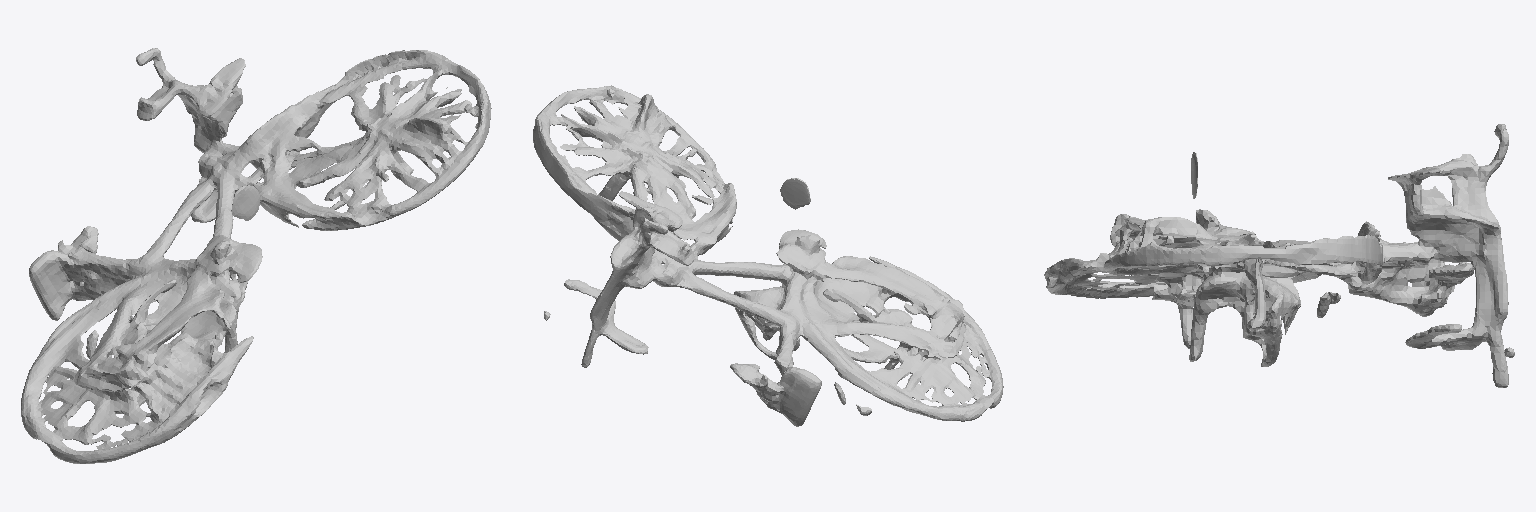
The robot description file, URDF, robot "hy3d_bike_cari4d":
<?xml version="1.0" ?>
<robot name="hy3d_bike_cari4d">
  <material name="hy3d_bike_cari4d_color">
    <color rgba="0.8 0.8 0.8 1.0"/>
  </material>

  <link name="hy3d_bike_cari4d_link">
    <inertial>
      <origin rpy="0 0 0" xyz="0 0 0"/>
      <mass value="5.0"/>
      <inertia ixx="0.1" ixy="0" ixz="0" iyy="0.1" iyz="0" izz="0.1"/>
    </inertial>

    <visual>
      <origin rpy="0 0 0" xyz="0 0 0"/>
      <geometry>
        <mesh filename="Date03_Sub01_bike_wild001_000_align_centered_x20.obj" scale="1 1 1"/>
      </geometry>
      <material name="hy3d_bike_cari4d_color"/>
    </visual>

    <collision name="hy3d_bike_cari4d_collision">
      <origin rpy="0 0 0" xyz="0 0 0"/>
      <geometry>
        <mesh filename="Date03_Sub01_bike_wild001_000_align_centered_x20.obj" scale="1 1 1"/>
      </geometry>
    </collision>
  </link>
</robot>

--- Facts derived from the render (not from the file) ---
3 views of the same robot in one strip: view 1: azimuth 30°, elevation 25°; view 2: azimuth 150°, elevation 25°; view 3: azimuth 270°, elevation 25° (orthographic).
Model hy3d_bike_cari4d with 1 links and 0 joints (none), rooted at hy3d_bike_cari4d_link, posed every joint at zero.
Links seen in each view (by area): view 1: hy3d_bike_cari4d_link; view 2: hy3d_bike_cari4d_link; view 3: hy3d_bike_cari4d_link.
Link boxes in pixels (x1=…): hy3d_bike_cari4d_link: x1=21, y1=48, x2=491, y2=463; hy3d_bike_cari4d_link: x1=533, y1=85, x2=1003, y2=426; hy3d_bike_cari4d_link: x1=1044, y1=124, x2=1514, y2=387.
Size in the robot's own frame: 0.957 by 0.6967 by 0.5131 metres.
1 mesh visuals loaded from 1 distinct referenced files (1 OBJ).
